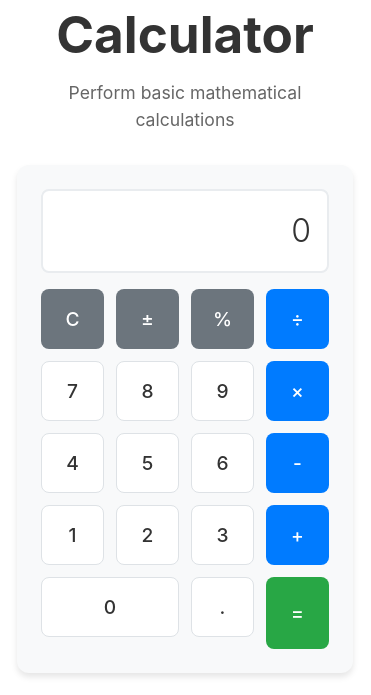
Test: Calculator › performs addition
Click the button "5" at (148, 463), box [116, 433, 179, 493]
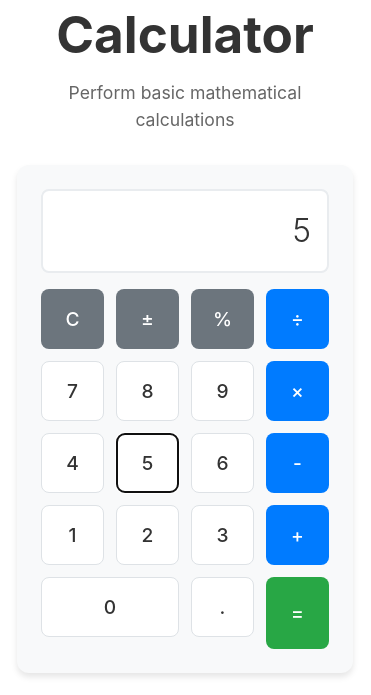
Click the button "+" at (298, 535), box [266, 505, 329, 565]
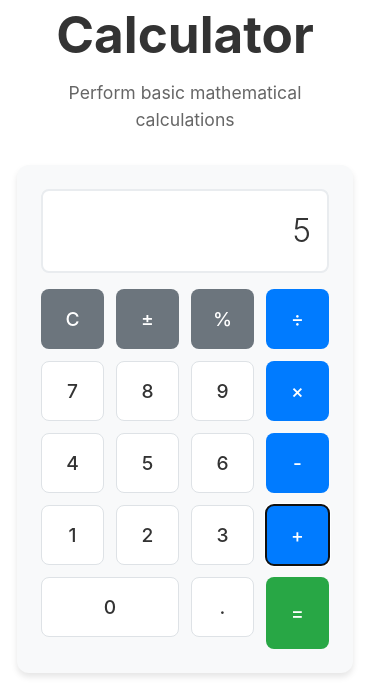
Click the button "3" at (222, 535), box [191, 505, 254, 565]
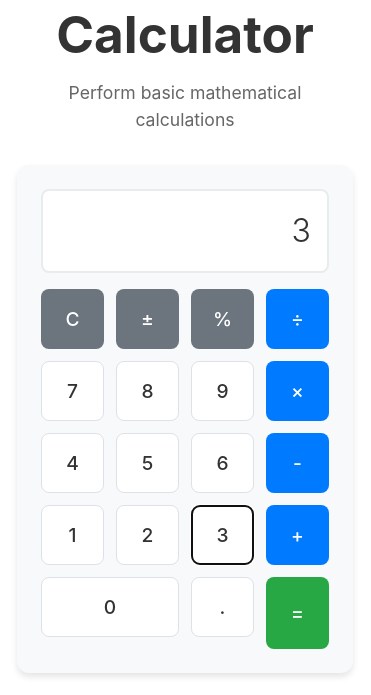
Click the button "=" at (298, 613), box [266, 577, 329, 649]
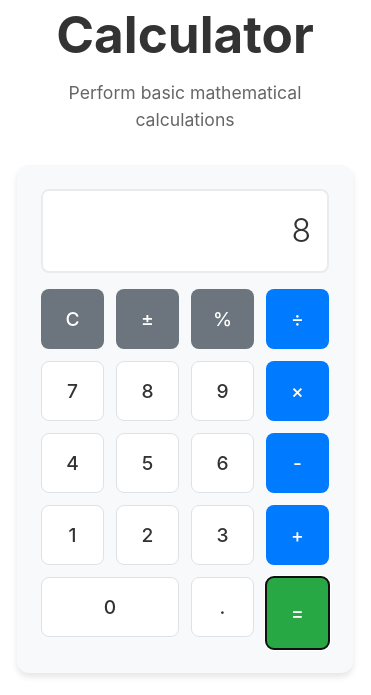
Expected: the text "8" is shown, [291, 207, 311, 255]
